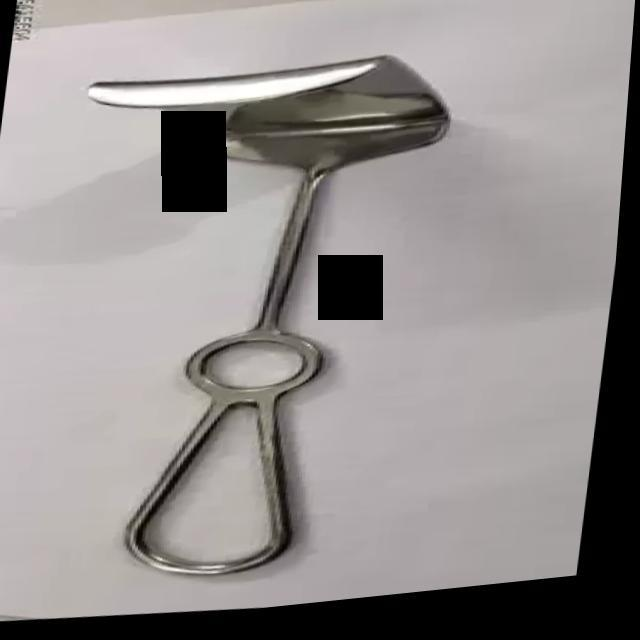Morris Retractor: (19, 39, 480, 612)
